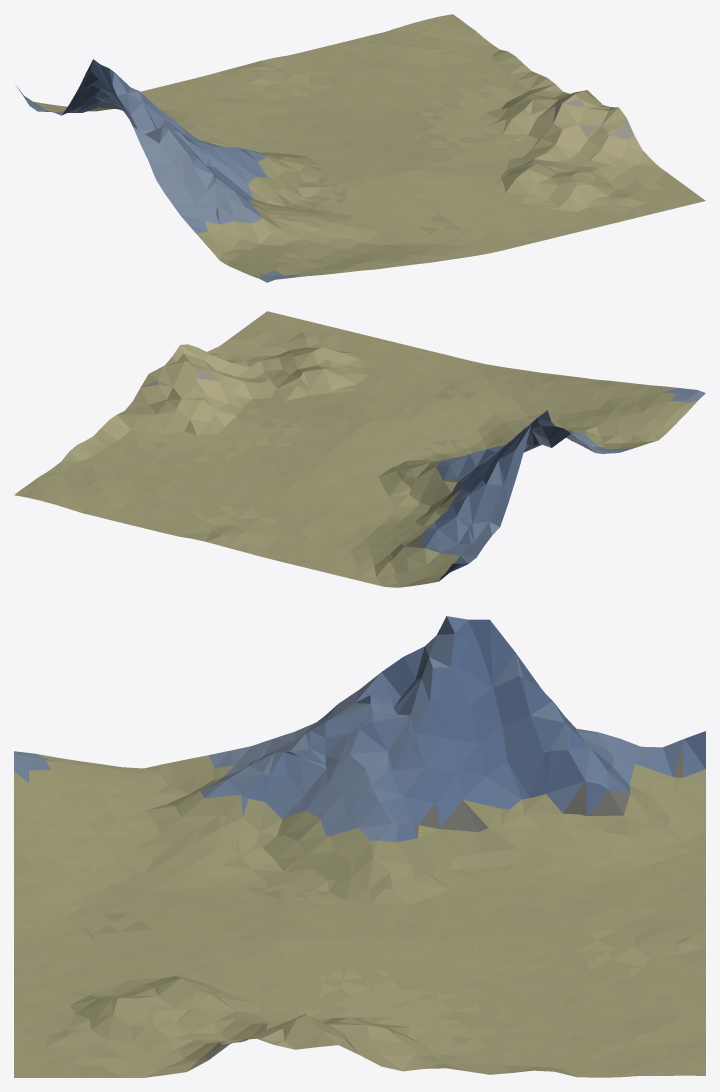
Rendered from Ground_2_-4.glb.
3 views of the same model, one above another, from view 1: azimuth 30°, elevation 25°; view 2: azimuth 150°, elevation 25°; view 3: azimuth 270°, elevation 25° (orthographic). The views are drawn at different scales.
Visible parts, largest first — view 1: Ground_2_-4; view 2: Ground_2_-4; view 3: Ground_2_-4.
Boxes of the visible parts, bbox=[...] form: Ground_2_-4: bbox=[16, 14, 705, 282]; Ground_2_-4: bbox=[14, 311, 705, 587]; Ground_2_-4: bbox=[14, 616, 705, 1077].
Size of the model in its own units: 768 by 208 by 768.
